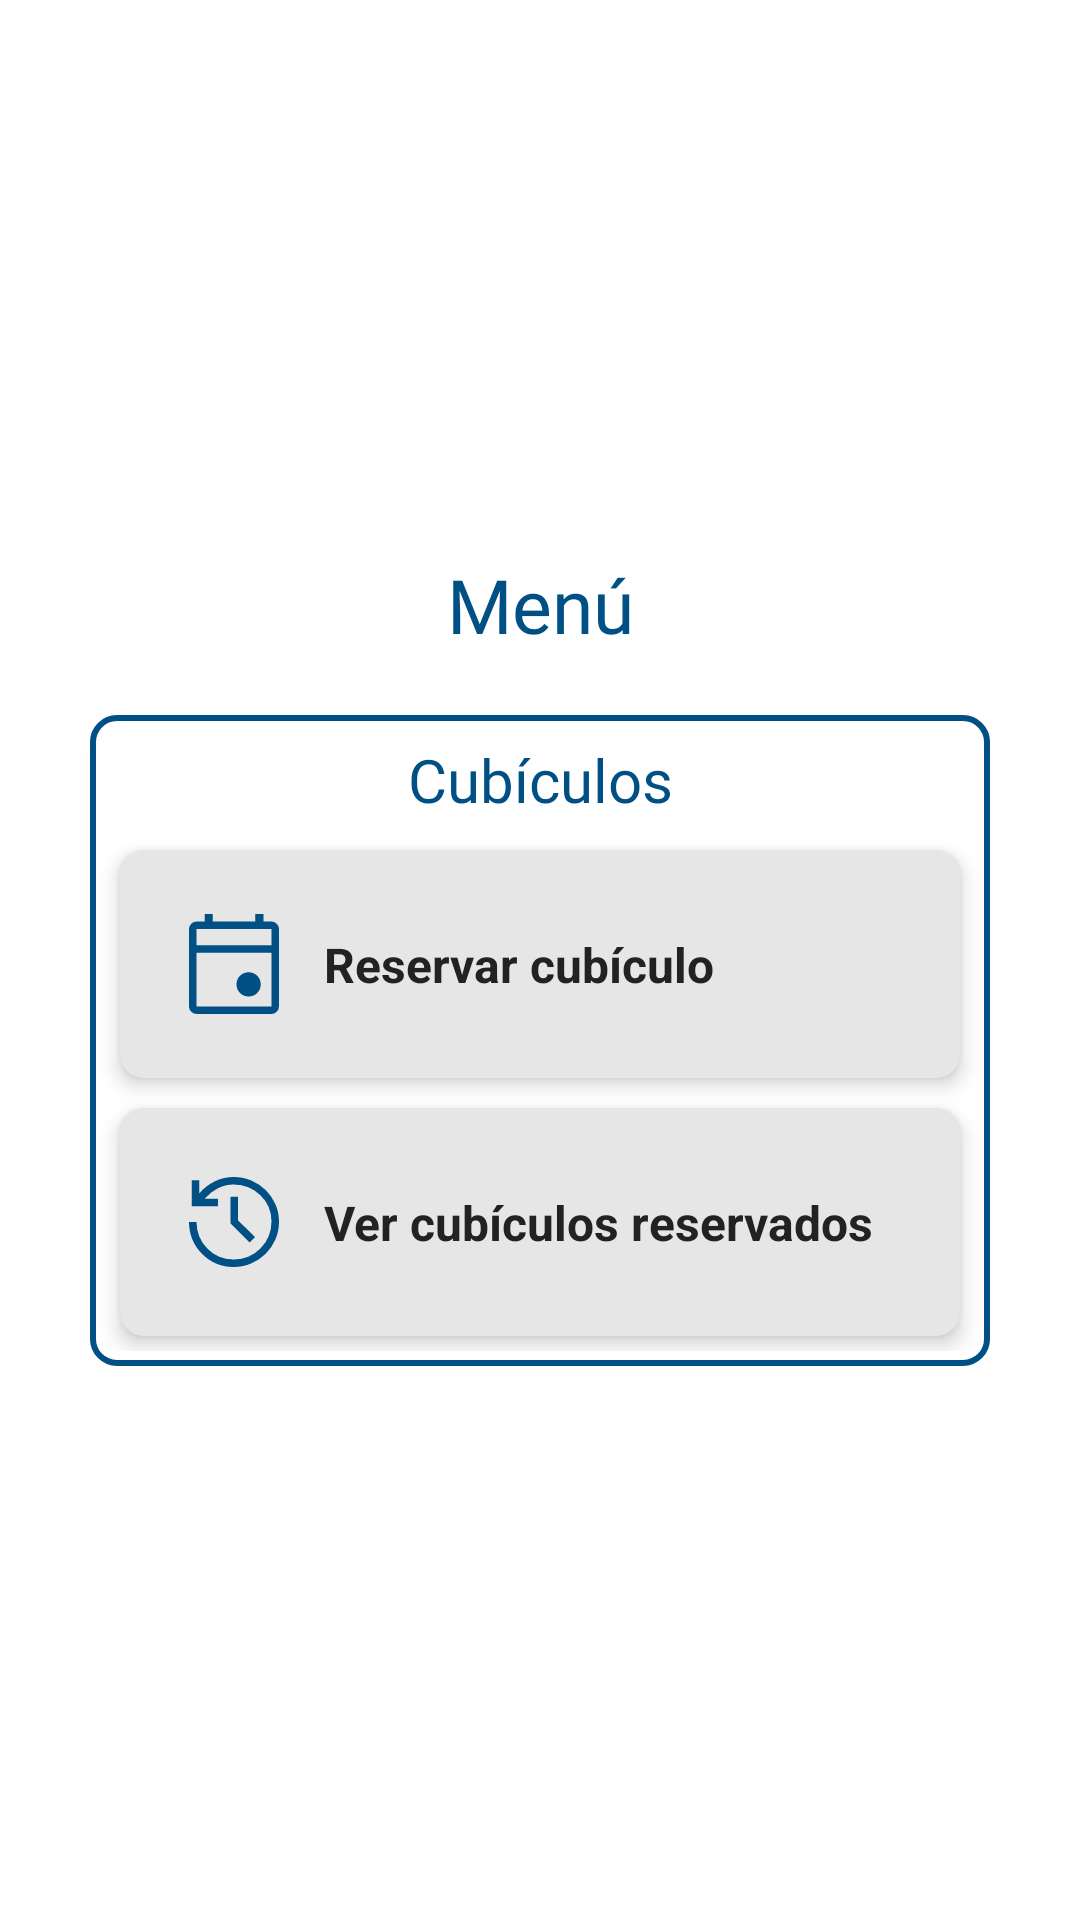

Icon click points for this 1080 x 1920 phone screenshot, format (x,y):
book room: (234,964)
see history: (234,1222)
